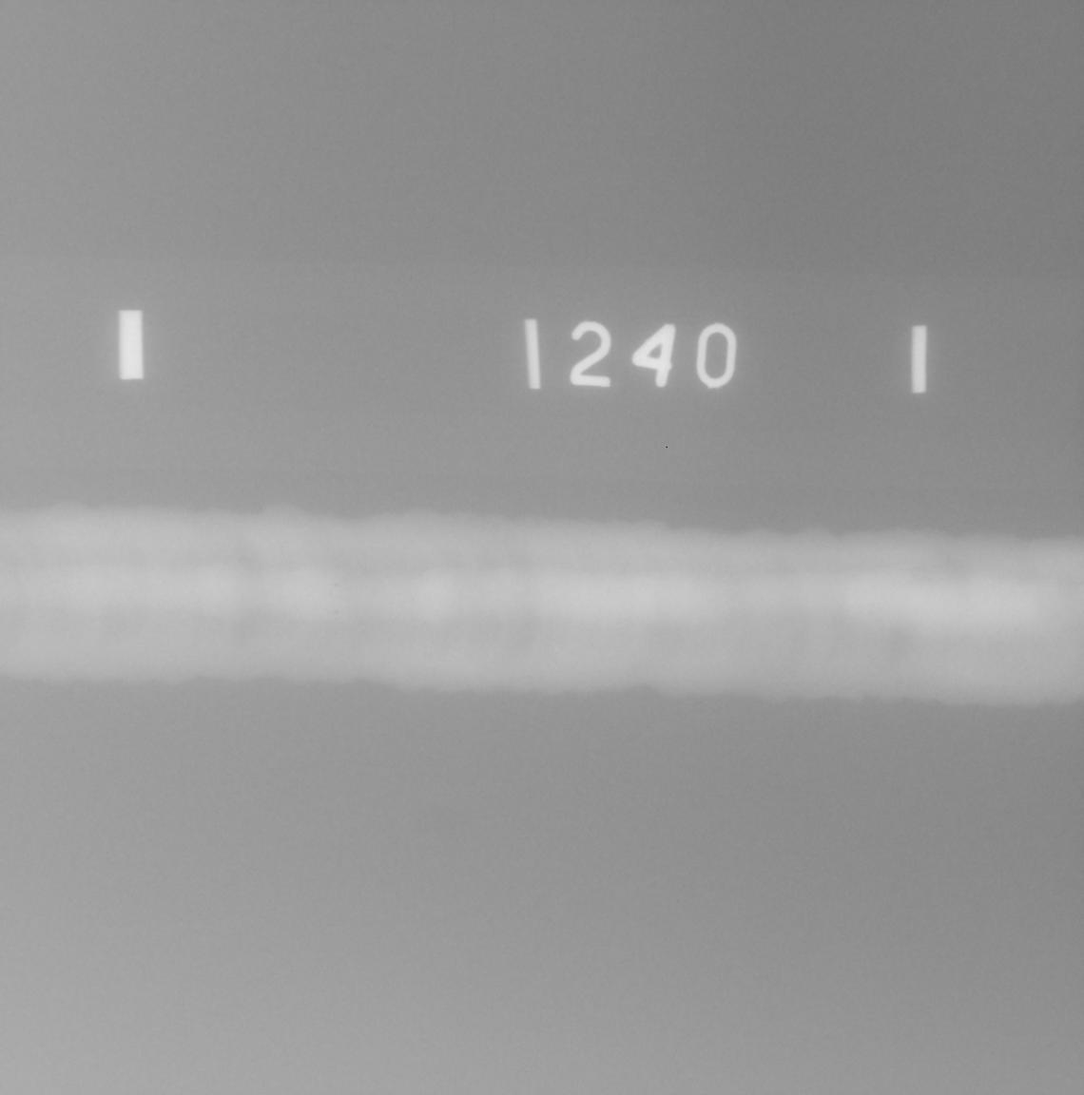Inclusion: (871, 613, 875, 617), (870, 604, 874, 607), (878, 608, 882, 611)
Pore/Porosity: (333, 583, 337, 587), (334, 611, 338, 614)
